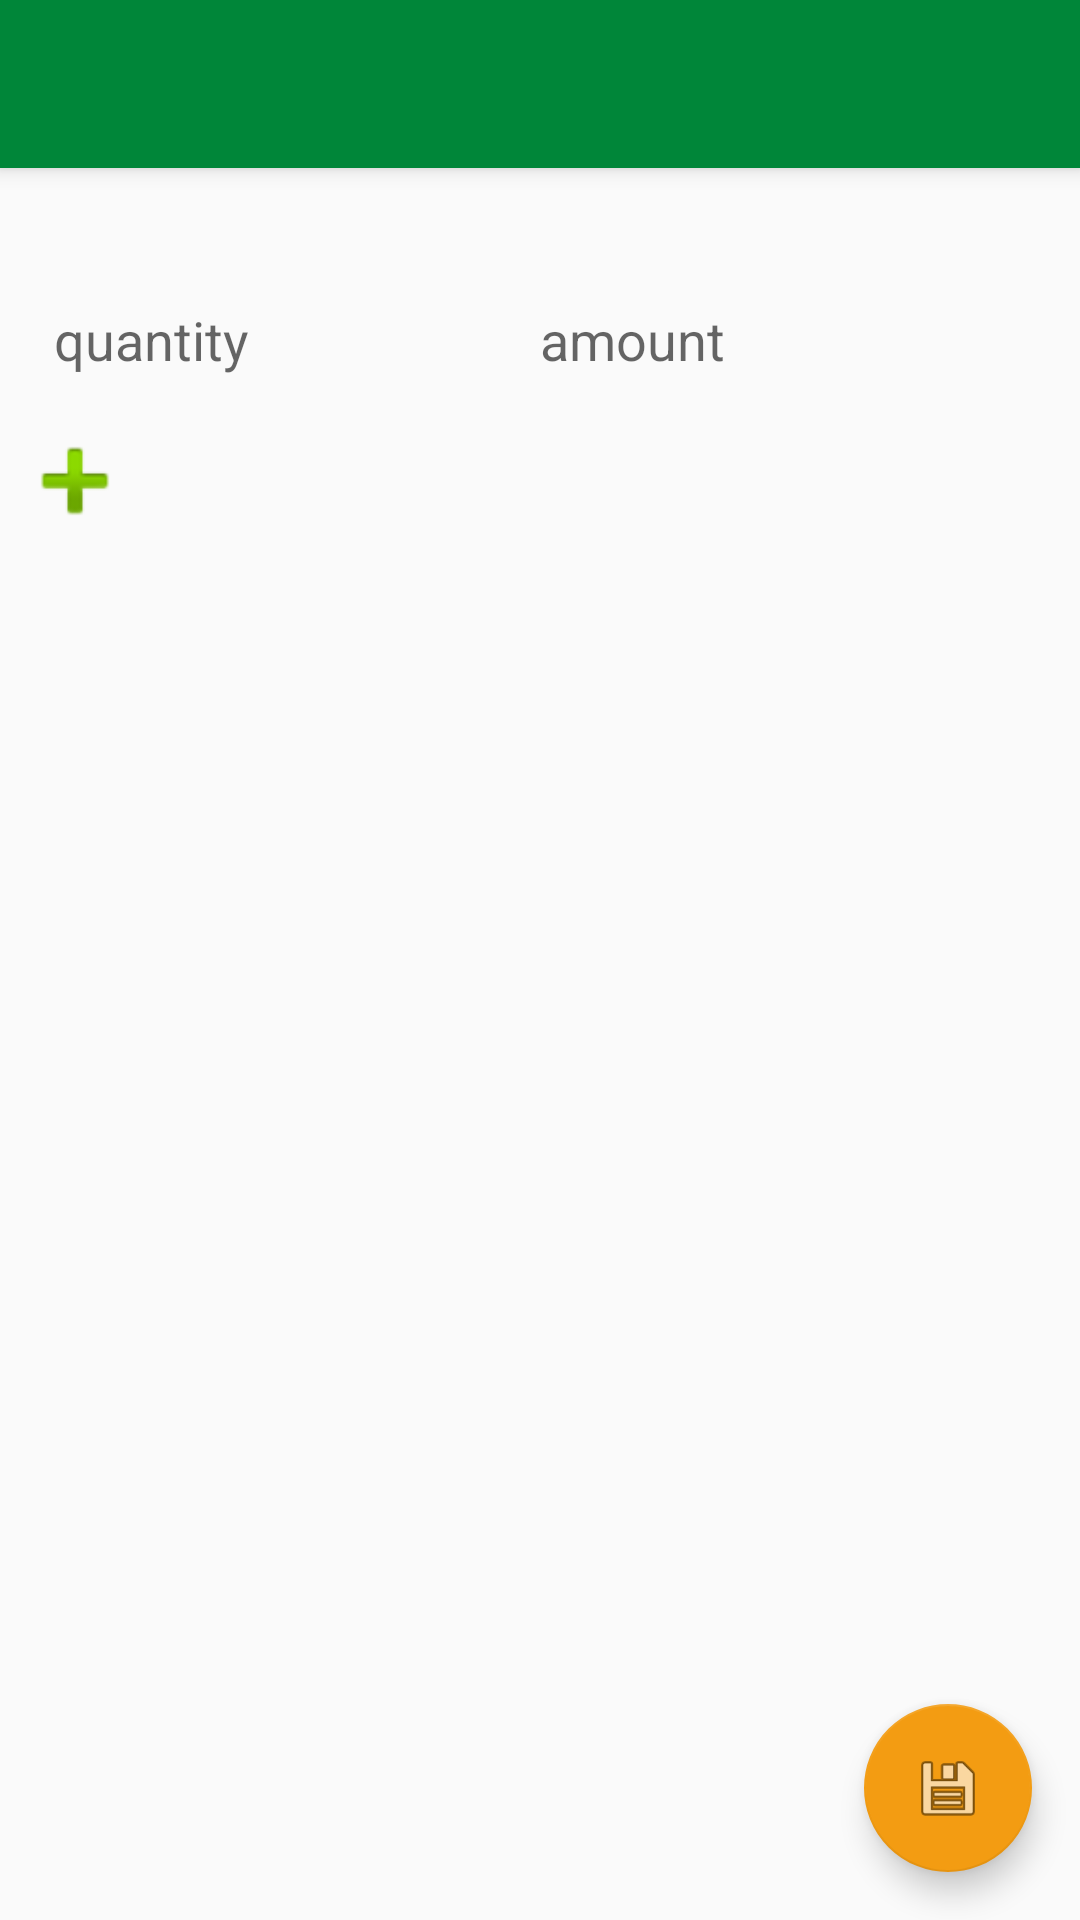

Where to tap for icons on this 1080px x 1920px app screen, as point (x, y):
add: point (75, 481)
save: point (948, 1788)
